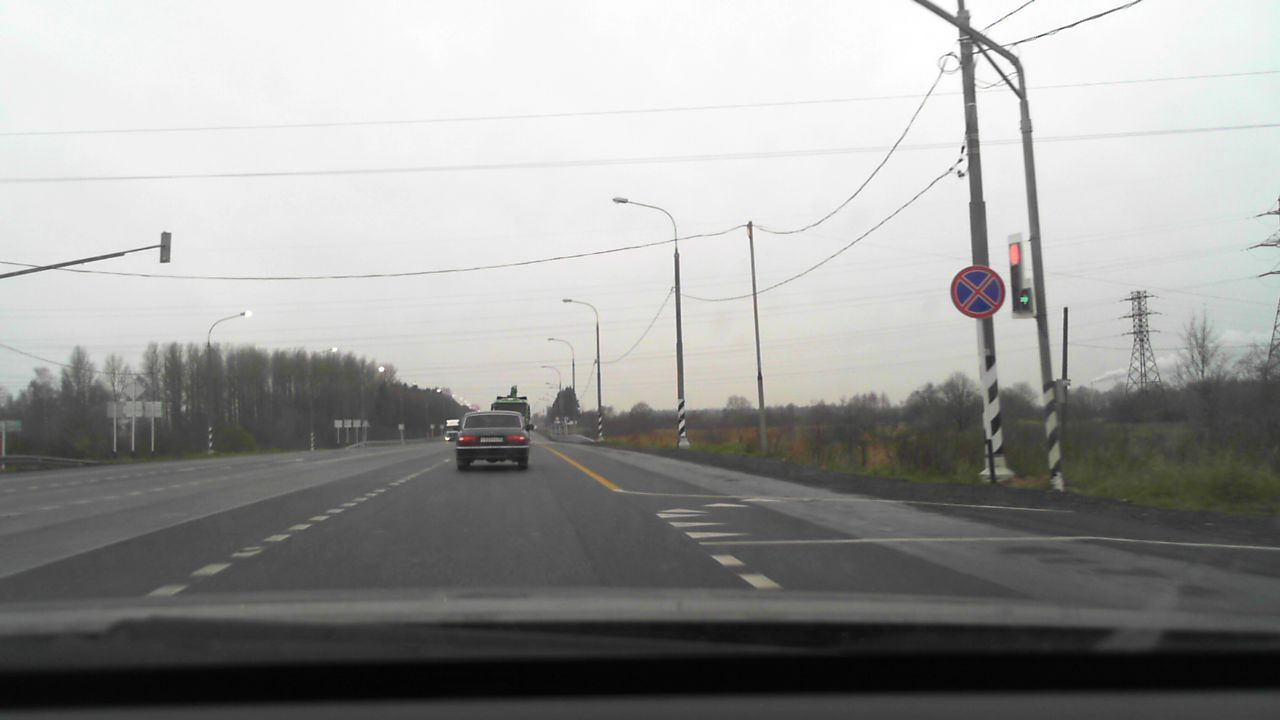No Parking: (949, 264, 1005, 318)
